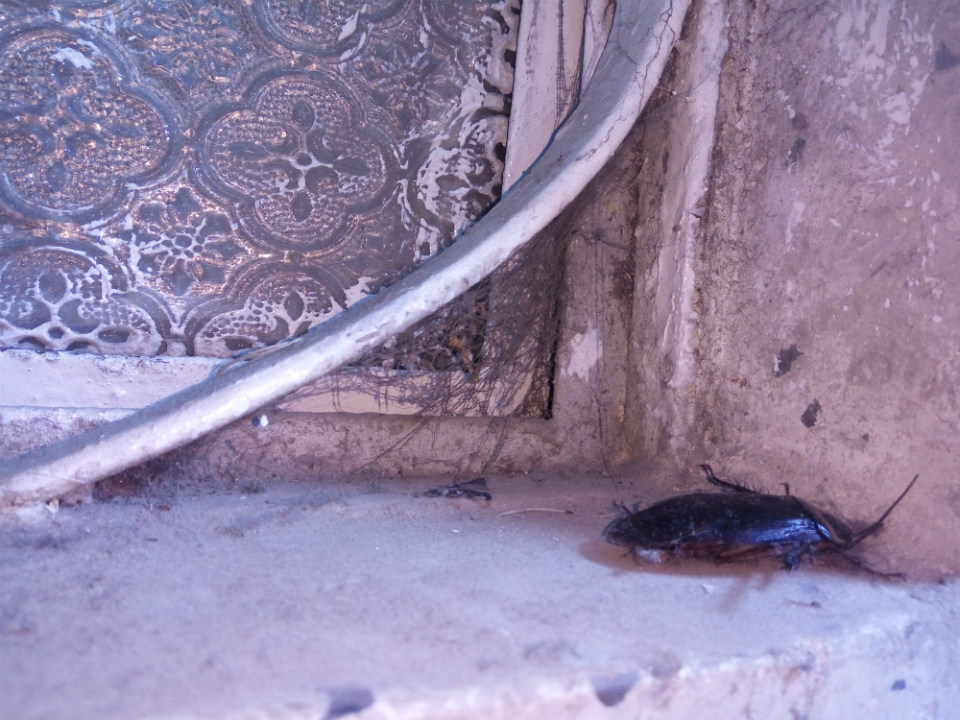cockroach: (558, 434, 931, 588)
